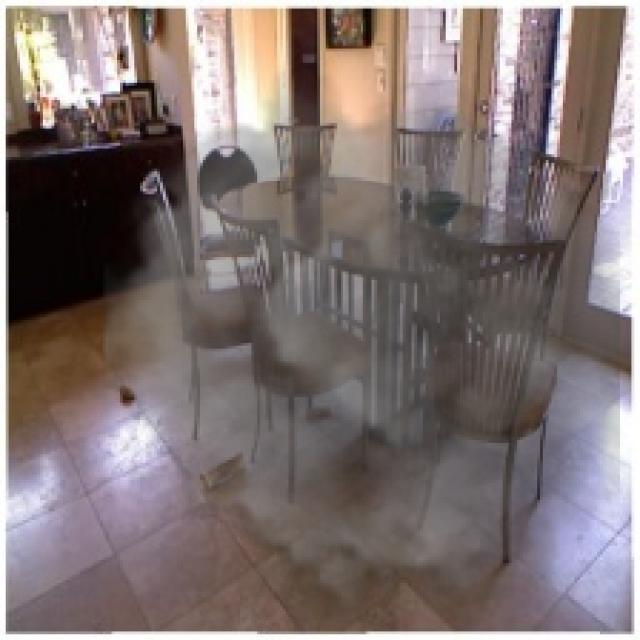smoke: (103, 63, 620, 626)
